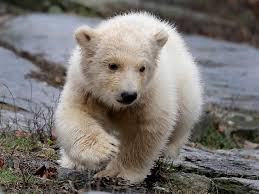PolarBear: (53, 6, 206, 187)
